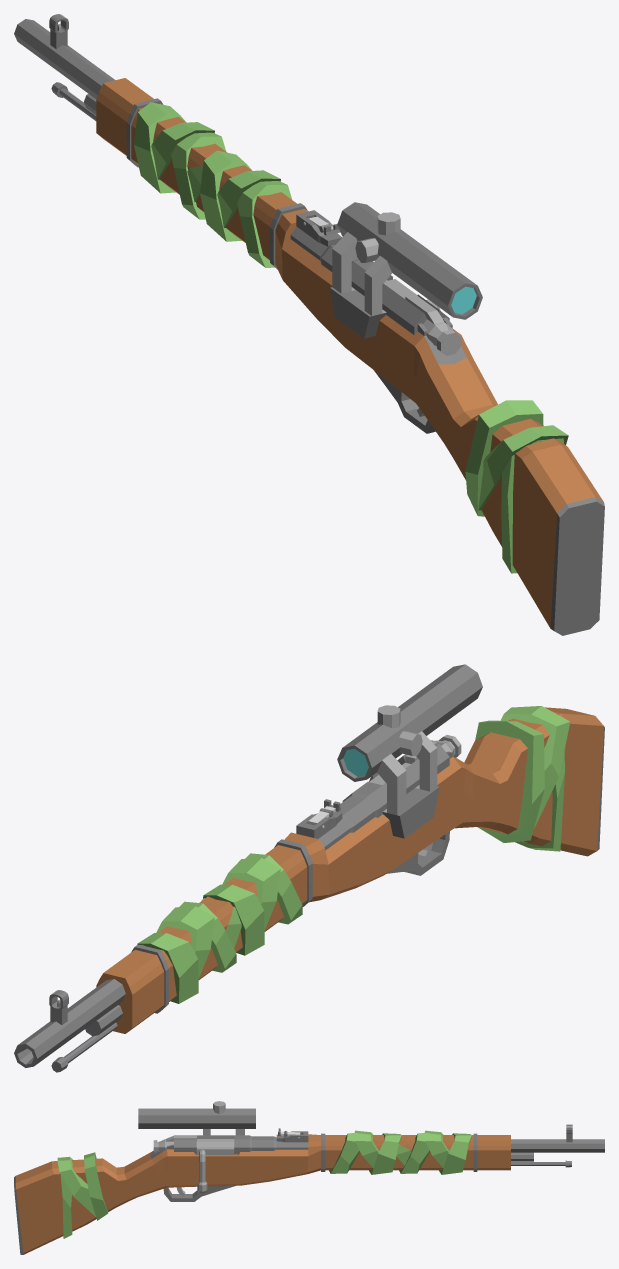
3 renders of one model, top to bottom at view 1: azimuth 30°, elevation 25°; view 2: azimuth 150°, elevation 25°; view 3: azimuth 270°, elevation 25°, orthographic. The views are drawn at different scales.
Parts seen in each view (by area): view 1: stock, Tape.020, Scope, Barrel, Receiver, Bolt, Triggerguard; view 2: stock, Tape.020, Scope, Barrel, Receiver, Triggerguard, Receiverpart, Bolt, FrontSight; view 3: stock, Tape.020, Scope, Barrel, Receiver, Bolt, Triggerguard, Receiverpart.
Part boxes in pixels (x1,y1,x2,y2): stock: [96, 78, 604, 635]; Tape.020: [134, 102, 568, 573]; Scope: [330, 202, 482, 338]; Barrel: [14, 19, 115, 120]; Receiver: [290, 227, 449, 334]; Bolt: [384, 279, 461, 355]; Triggerguard: [374, 370, 435, 433]; stock: [96, 707, 604, 1033]; Tape.020: [137, 706, 570, 1003]; Scope: [337, 664, 482, 838]; Barrel: [14, 979, 125, 1072]; Receiver: [318, 743, 449, 850]; Triggerguard: [387, 831, 449, 875]; Receiverpart: [296, 811, 342, 838]; Bolt: [369, 735, 461, 785]; FrontSight: [49, 990, 68, 1024]; stock: [14, 1133, 510, 1254]; Tape.020: [57, 1130, 471, 1238]; Scope: [138, 1101, 255, 1135]; Barrel: [511, 1139, 604, 1167]; Receiver: [174, 1135, 308, 1154]; Bolt: [153, 1135, 234, 1192]; Triggerguard: [163, 1186, 234, 1201]; Receiverpart: [276, 1131, 308, 1142].
Bounding box in the file's own units: 48.23 × 170 × 617.
